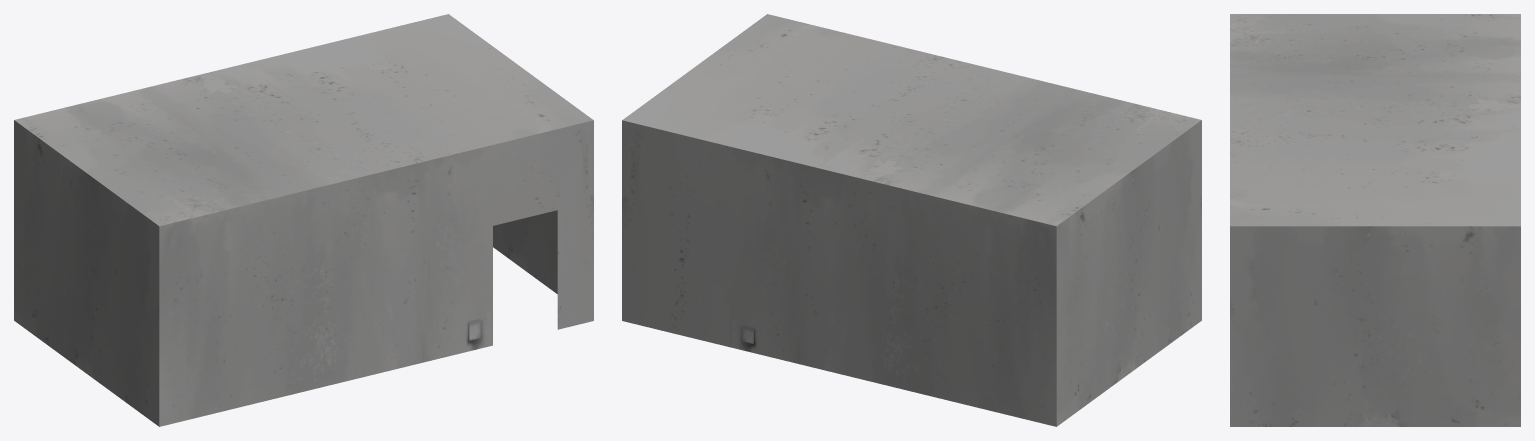
Rendered from BgMD_SpawnRooftoop_01_01.fbx.
3 views of the same model, side by side, from view 1: azimuth 30°, elevation 25°; view 2: azimuth 150°, elevation 25°; view 3: azimuth 270°, elevation 25° (orthographic).
Visible parts, largest first — view 1: pCube43; view 2: pCube43; view 3: pCube43.
Part boxes in pixels (box(x1,y1,x2,y2)): pCube43: box(14, 14, 593, 426); pCube43: box(622, 14, 1201, 426); pCube43: box(1230, 14, 1520, 426).
Size of the model in its own units: 1133 by 500 by 656.
1 material, 1 textured.
